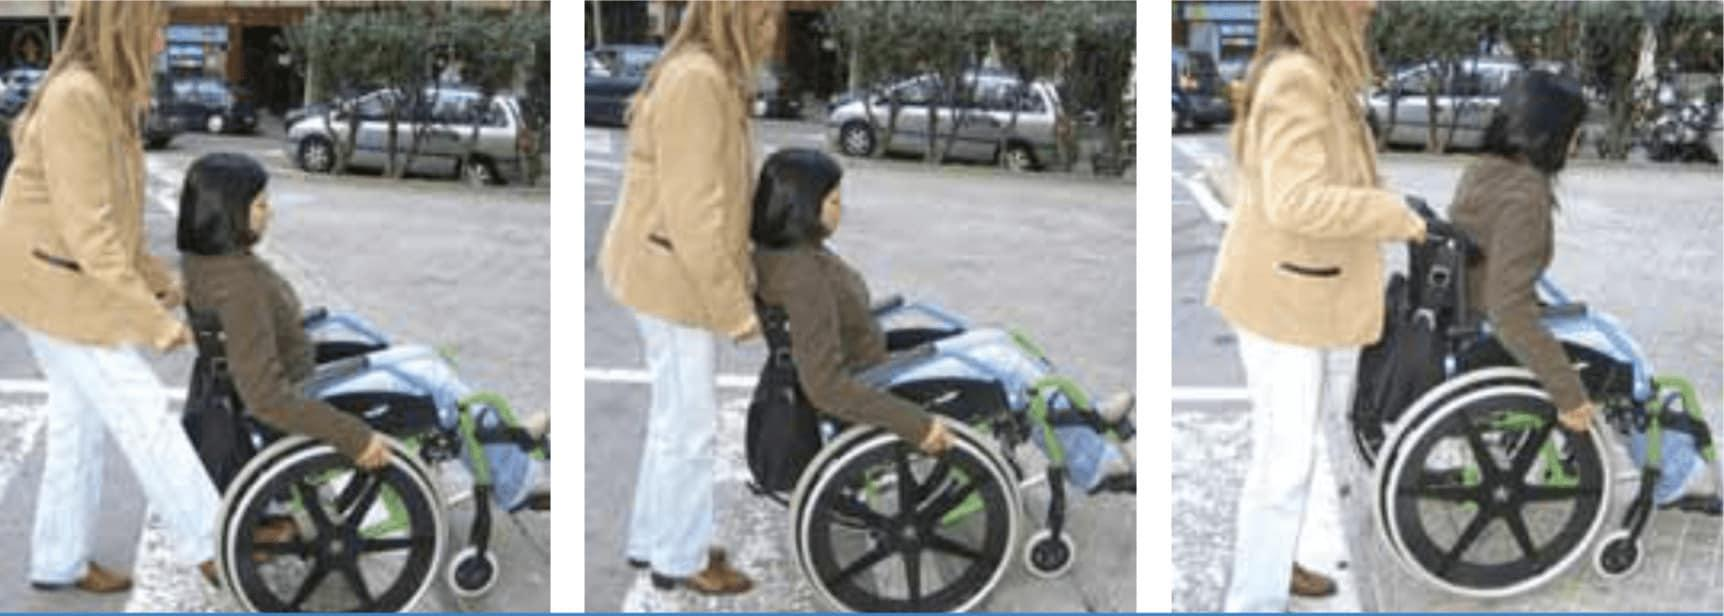push_wheelchair: (0, 0, 295, 592), (1207, 0, 1424, 616), (596, 0, 780, 593)
wheelchair: (1355, 73, 1724, 597), (745, 148, 1140, 616), (175, 153, 552, 616)
